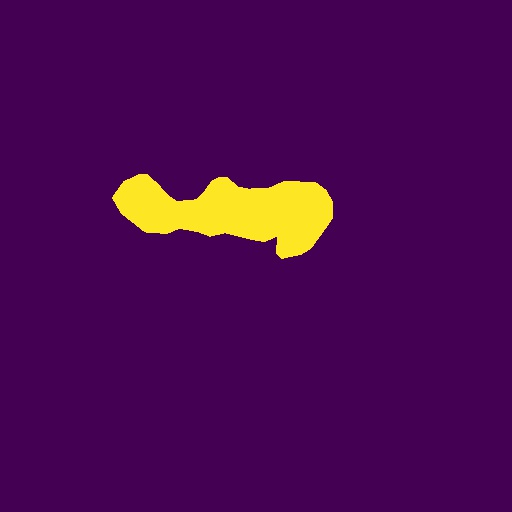Gliomia_tumour: (112, 174, 333, 259)
